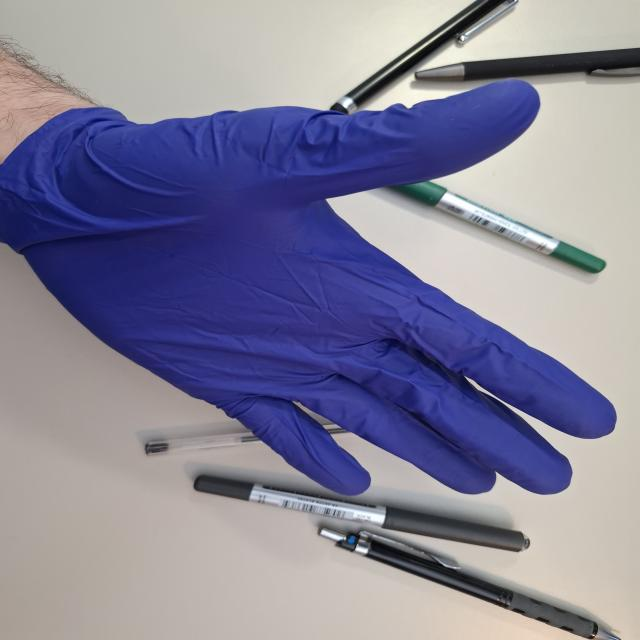glove_on: (0, 77, 621, 500)
